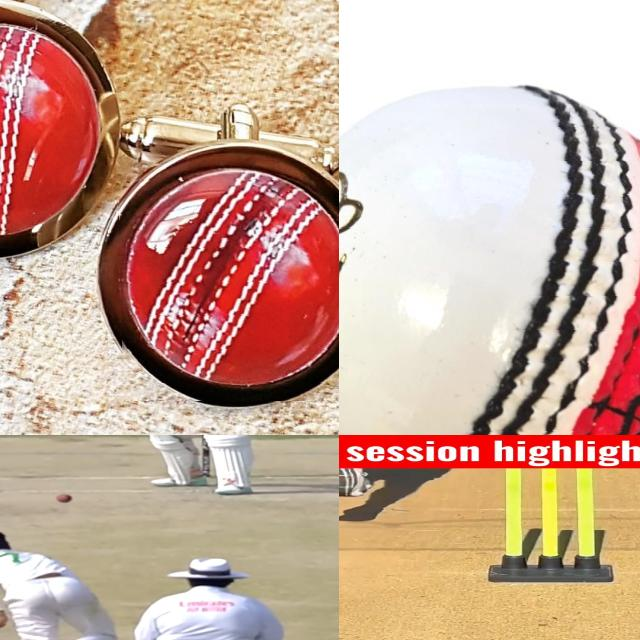Cricket ball: (339, 76, 640, 435), (116, 163, 339, 401), (56, 493, 76, 504)
